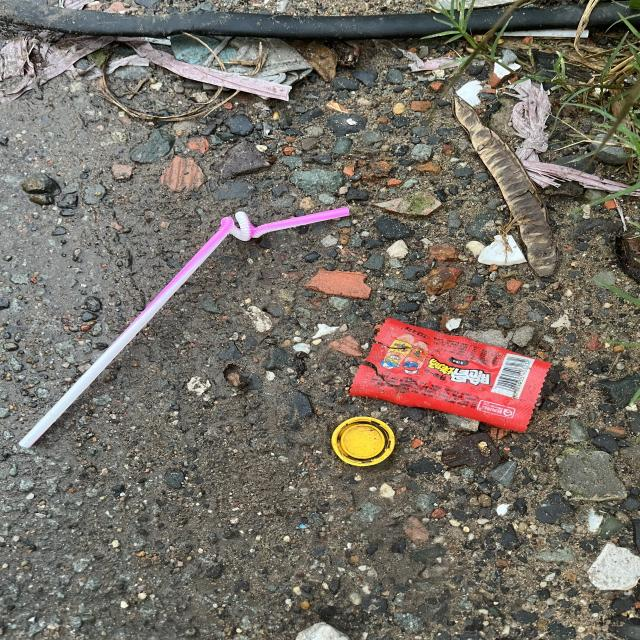drinking straw: (18, 207, 351, 448)
lid: (331, 416, 396, 466)
packet: (349, 317, 553, 433)
